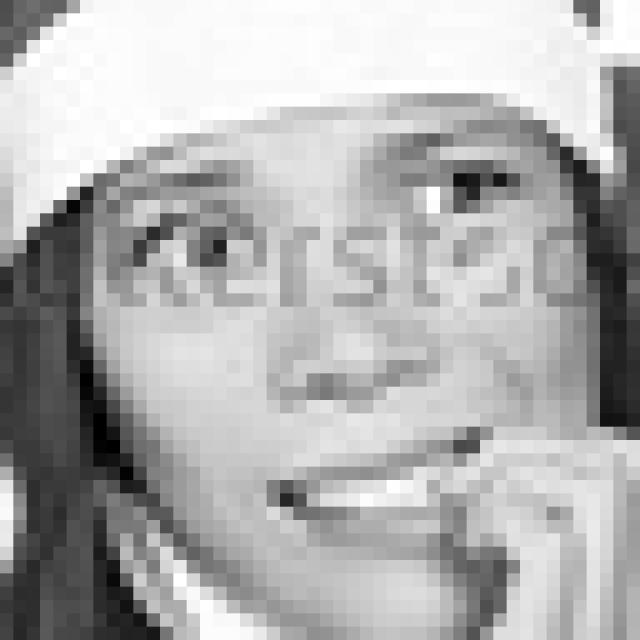fear: (106, 116, 551, 568)
